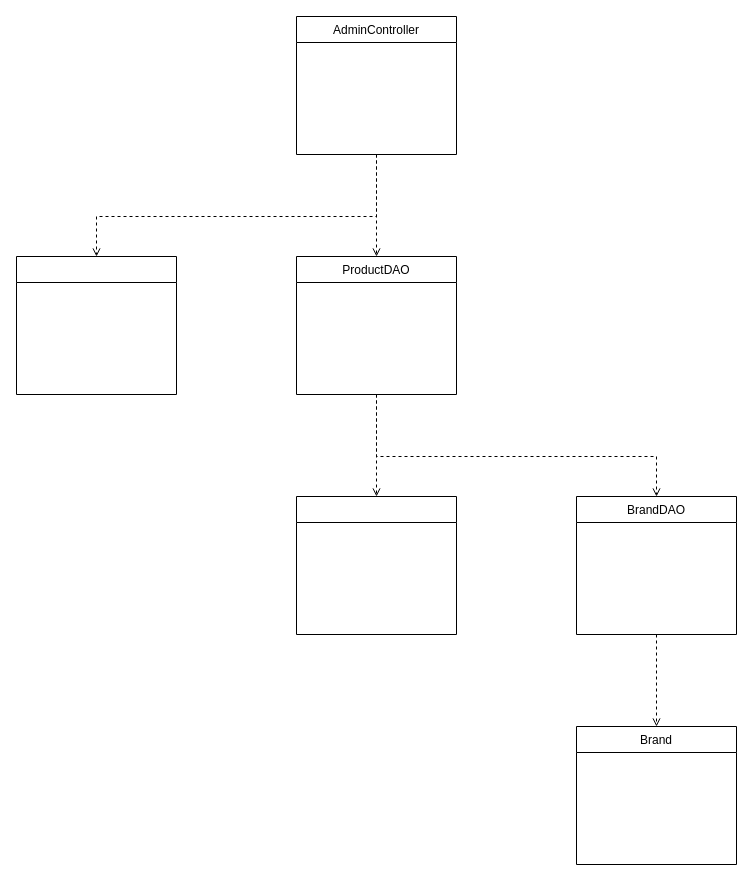
This 753x881 diagram has some shape labels left out. Each missing label, with the centre of its shape:
"ImageUploader" belongs at point (96, 325).
"Product" belongs at point (376, 565).
